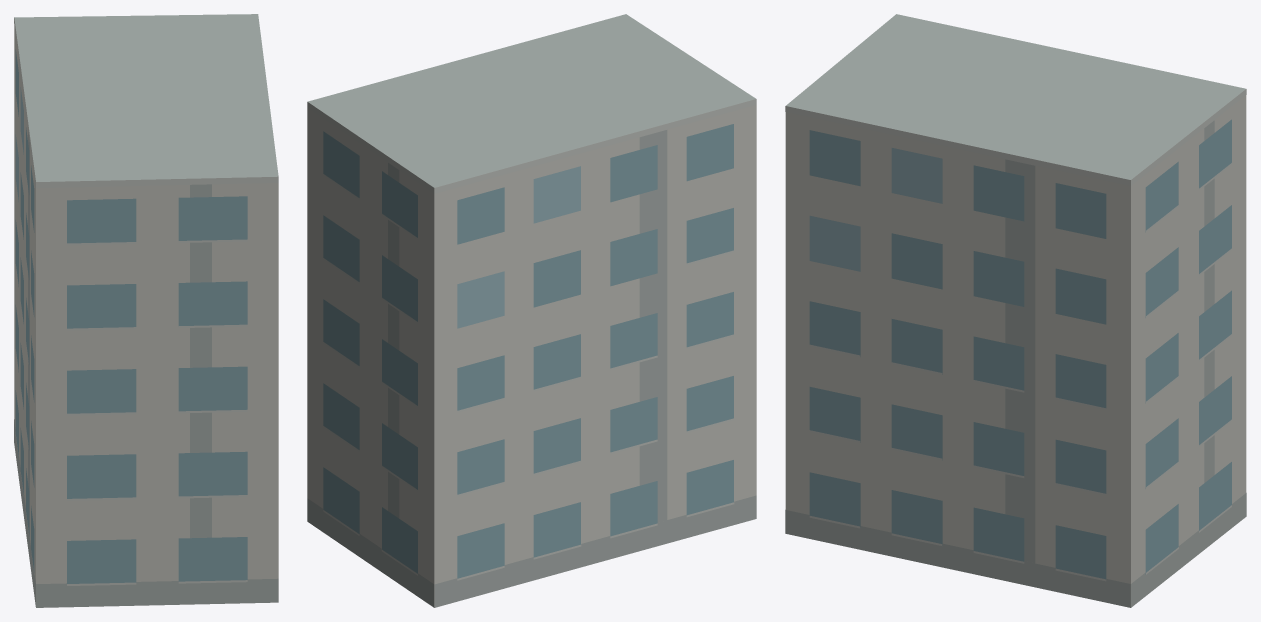
File: survey-upis-32943340.glb
3 views of the same model, side by side, from view 1: azimuth 30°, elevation 25°; view 2: azimuth 150°, elevation 25°; view 3: azimuth 270°, elevation 25° (orthographic).
Parts seen in each view (by area): view 1: survey-upis-32943340.tmp; view 2: survey-upis-32943340.tmp; view 3: survey-upis-32943340.tmp.
Boxes of the visible parts, x1=… form: survey-upis-32943340.tmp: x1=14, y1=14, x2=278, y2=607; survey-upis-32943340.tmp: x1=307, y1=14, x2=756, y2=607; survey-upis-32943340.tmp: x1=785, y1=14, x2=1246, y2=607.
Size of the model in its own units: 14.08 by 16.9 by 16.51.
